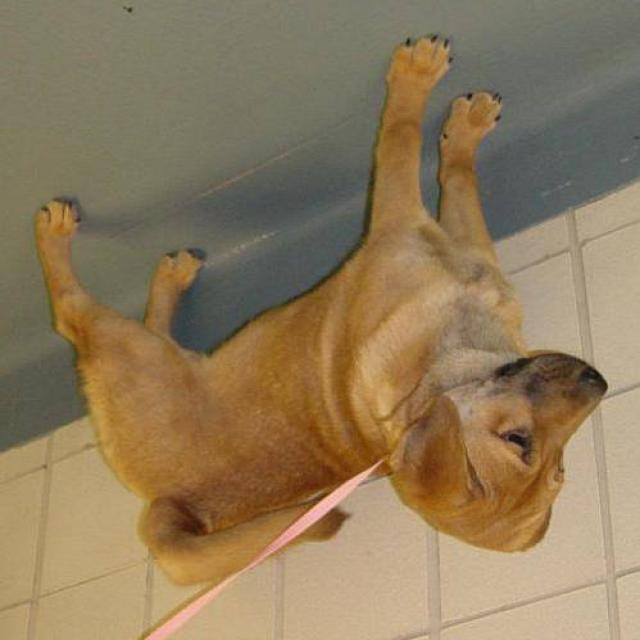dog: (30, 21, 603, 604)
